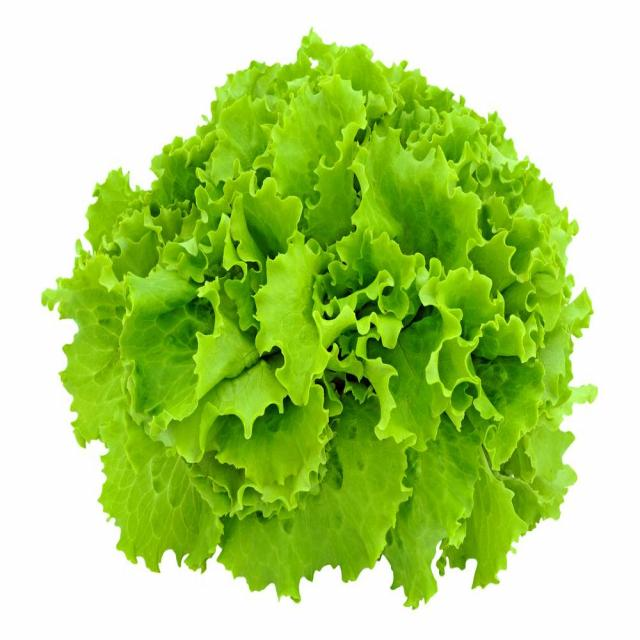Lettuce head: (56, 34, 590, 602)
